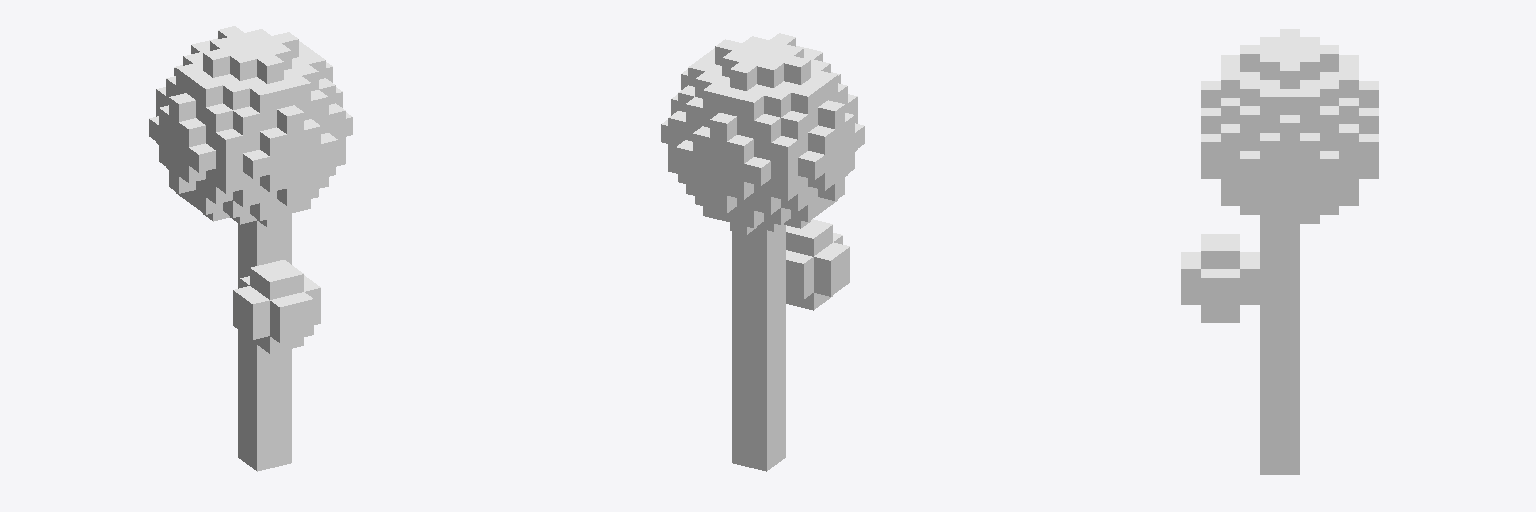
File: drzewo.obj
3 views of the same model, side by side, from view 1: azimuth 30°, elevation 25°; view 2: azimuth 150°, elevation 25°; view 3: azimuth 270°, elevation 25° (orthographic).
Bounding box in the file's own units: 9 × 23 × 10.